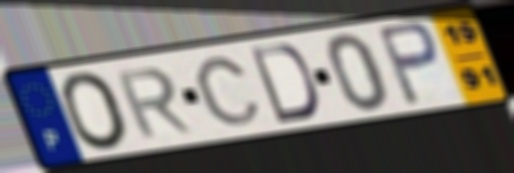0: (325, 30, 392, 114)
C: (192, 55, 264, 128)
D: (246, 41, 322, 126)
O: (56, 69, 134, 152)
P: (372, 18, 442, 108)
R: (111, 65, 197, 142)
